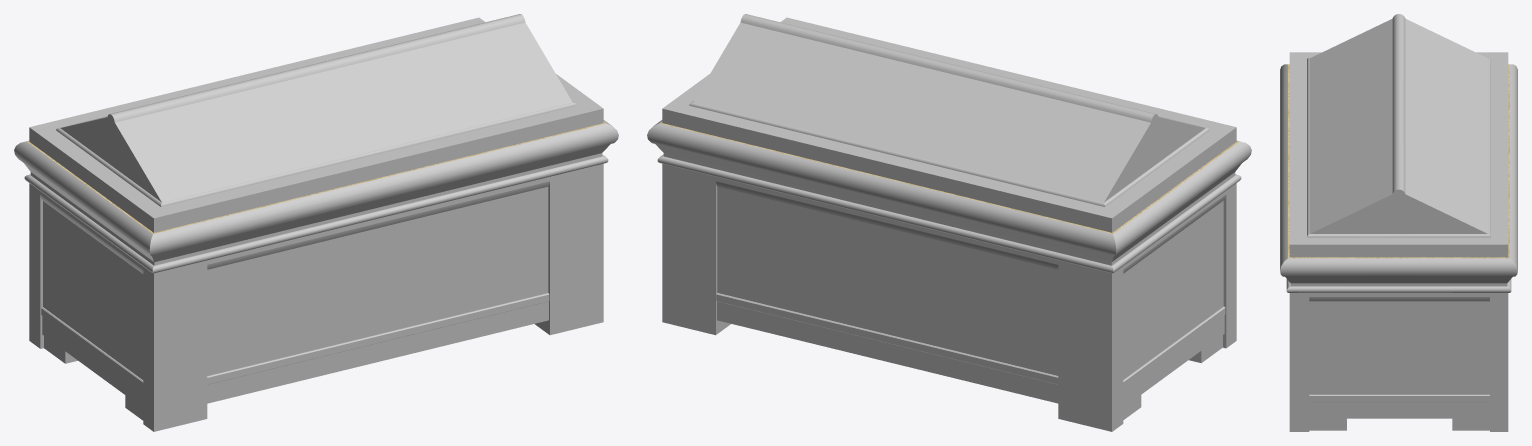
File: cypriot sarcophagus.dae
3 views of the same model, side by side, from view 1: azimuth 30°, elevation 25°; view 2: azimuth 150°, elevation 25°; view 3: azimuth 270°, elevation 25° (orthographic). The views are drawn at different scales.
Visible parts, largest first — view 1: SketchUp (×3), group_0; view 2: SketchUp (×3), group_0; view 3: group_0, SketchUp (×3).
Boxes of the visible parts, box(x1,y1,x2,y2) form: SketchUp (×3): box(14, 120, 618, 431); group_0: box(29, 14, 603, 232); SketchUp (×3): box(647, 120, 1251, 431); group_0: box(662, 14, 1236, 232); group_0: box(1289, 14, 1508, 257); SketchUp (×3): box(1280, 64, 1517, 431).
Size of the model in its own units: 107 by 53.62 by 58.18.
